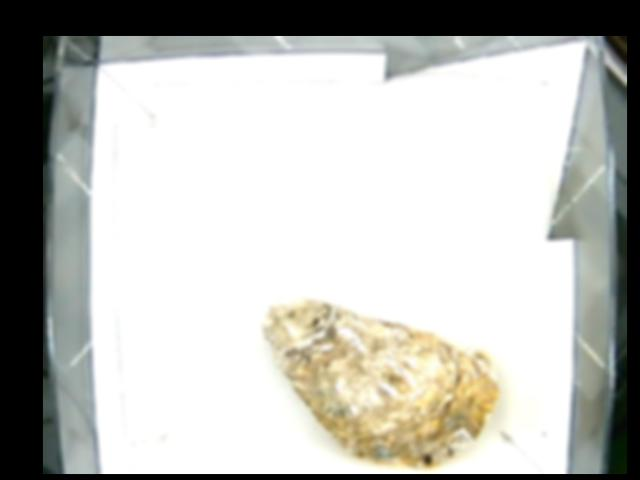Shell: (259, 296, 497, 464)
